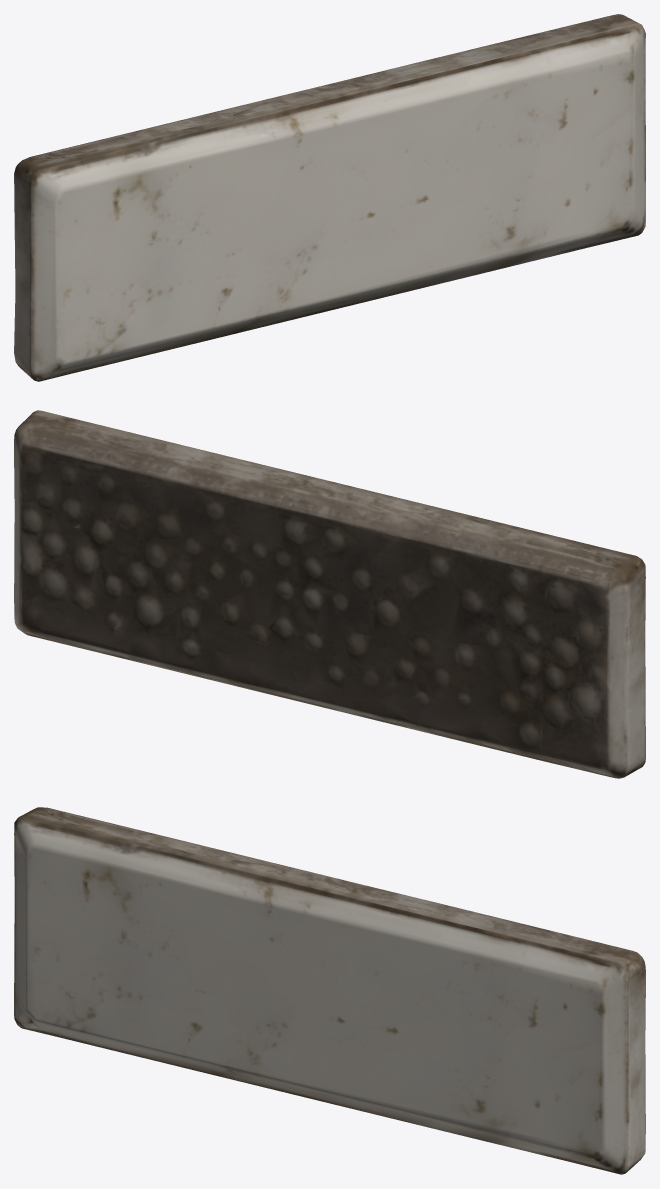
Rendered from wall.glb.
The picture shows the model from 3 angles, top to bottom: view 1: azimuth 30°, elevation 25°; view 2: azimuth 150°, elevation 25°; view 3: azimuth 330°, elevation 25°; orthographic projection.
Parts seen in each view (by area): view 1: convert; view 2: convert; view 3: convert.
Boxes of the visible parts, bbox=[...] form: convert: bbox=[14, 14, 645, 381]; convert: bbox=[14, 410, 645, 778]; convert: bbox=[14, 807, 645, 1174].
Bounding box in the file's own units: 1.15 × 0.3789 × 0.1082.
1 material, 1 textured.
